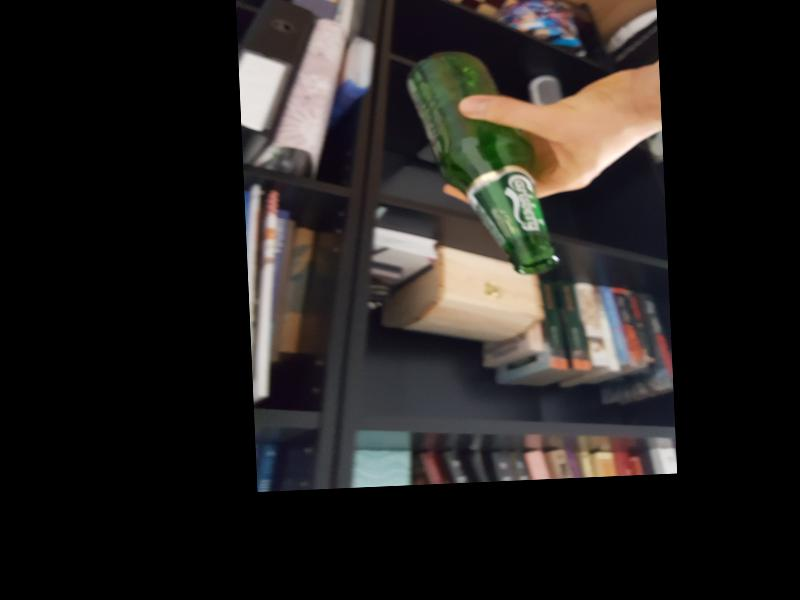Beer: (402, 47, 556, 279)
